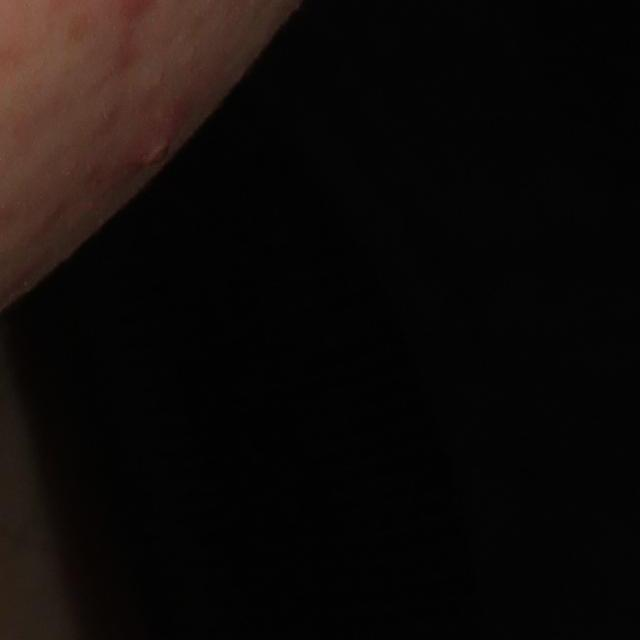pustule: (126, 109, 177, 180)
